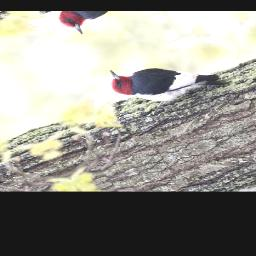Woodpecker: (100, 40, 226, 117)
